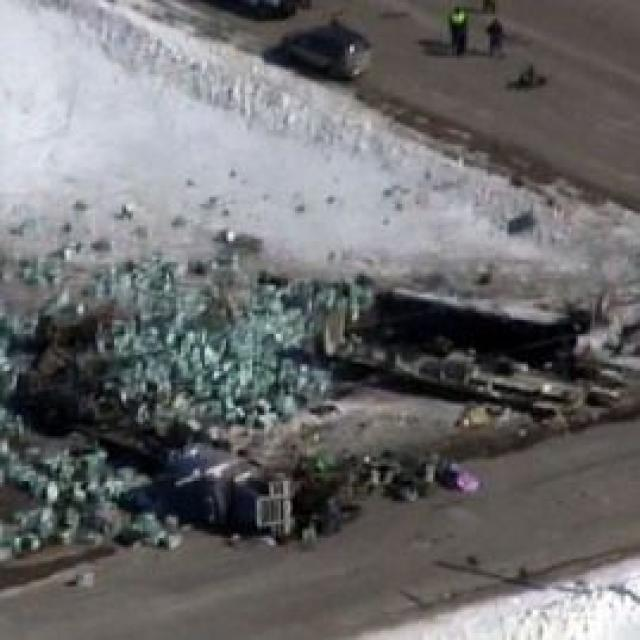traffic_incident: (345, 264, 597, 424), (129, 438, 302, 540)
